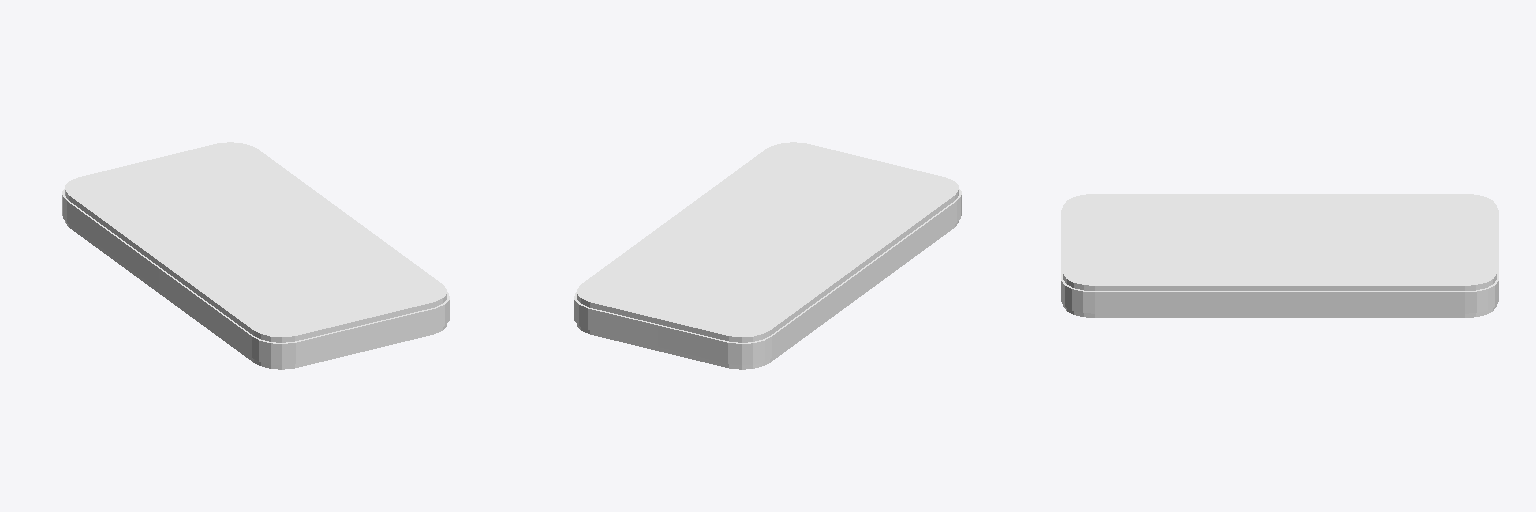
File: myroom_iphone.obj
3 views of the same model, side by side, from view 1: azimuth 30°, elevation 25°; view 2: azimuth 150°, elevation 25°; view 3: azimuth 270°, elevation 25° (orthographic).
Parts seen in each view (by area): view 1: objdefault; view 2: objdefault; view 3: objdefault.
Boxes of the visible parts, box(x1,y1,x2,y2) form: objdefault: box(62, 142, 449, 369); objdefault: box(574, 142, 961, 369); objdefault: box(1061, 194, 1498, 317).
Bounding box in the file's own units: 5.83 × 0.9332 × 11.5.